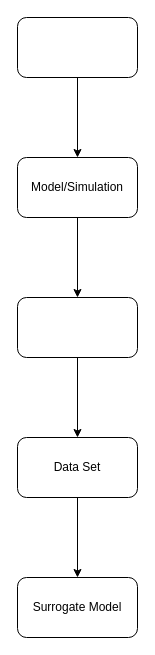
Image size: 155x655. Some labels were removed from this diagram. Each missing label, with the centre of its shape:
"Validation" goes at (x=77, y=327).
"Viscometer" goes at (x=77, y=47).
